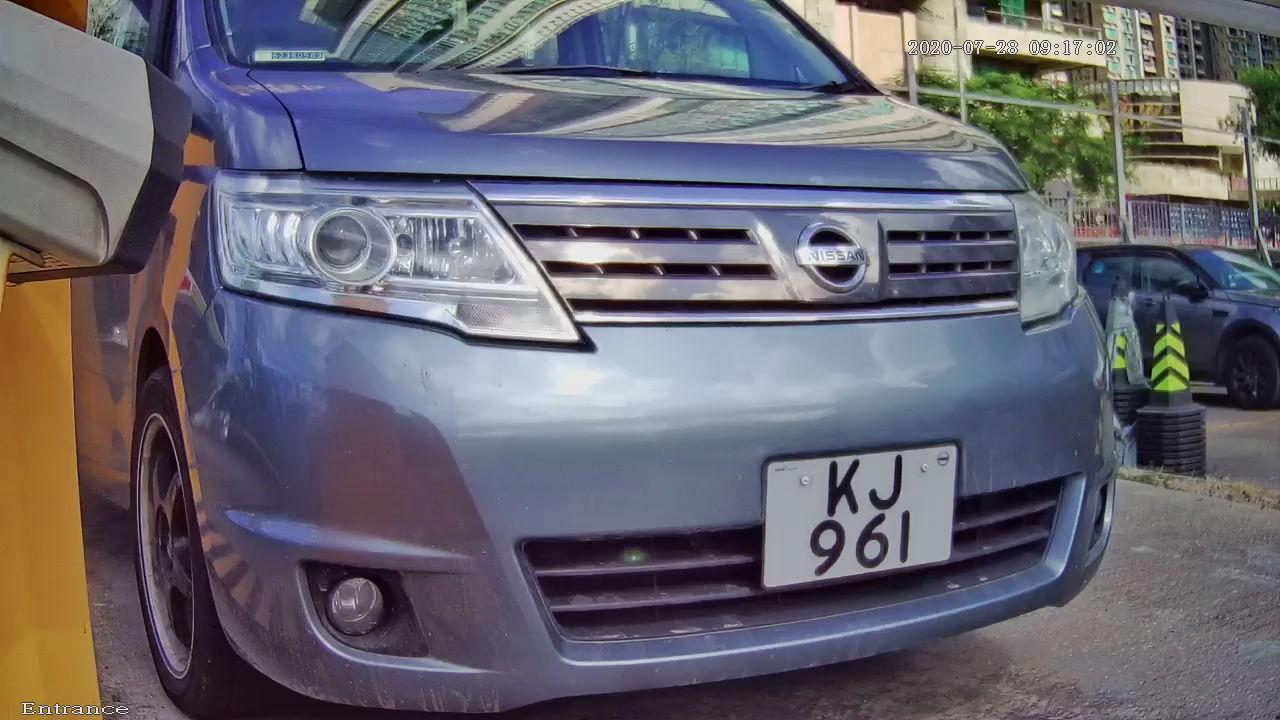privatecar: (58, 17, 1235, 704)
